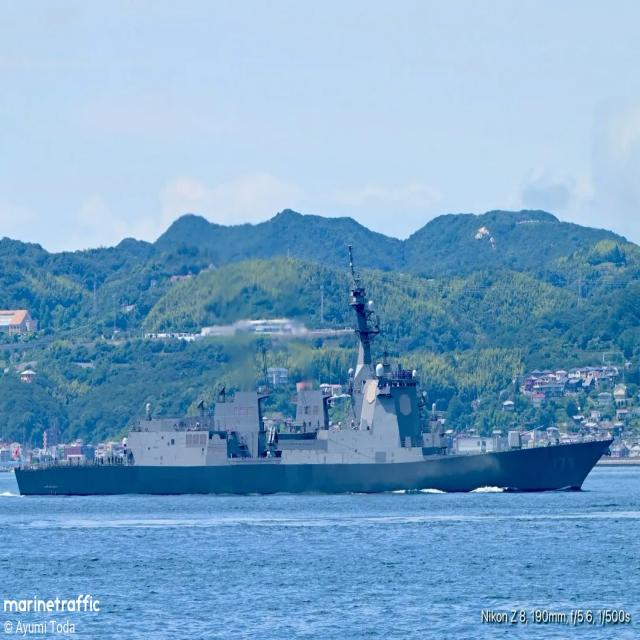Military: (16, 253, 612, 494)
